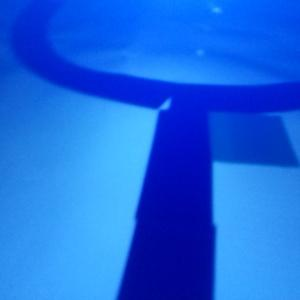bottom_right: (162, 84, 299, 167)
